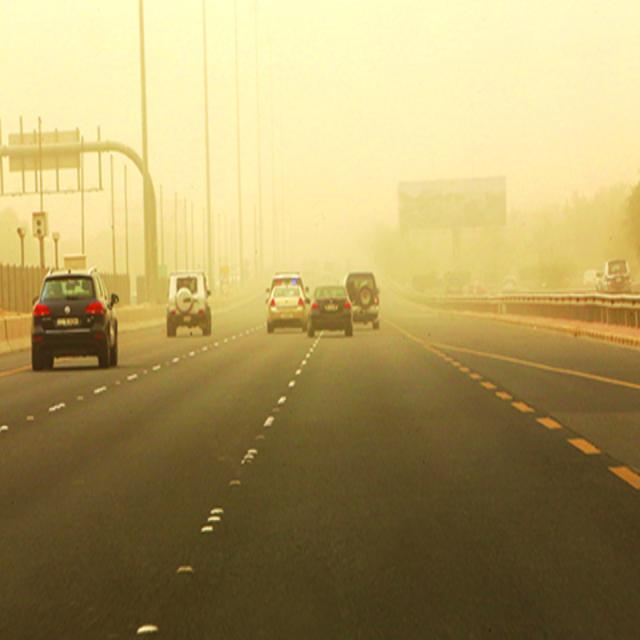car: (31, 271, 119, 372), (164, 271, 212, 337), (306, 283, 354, 337), (345, 271, 381, 330), (266, 282, 304, 333), (596, 256, 630, 294), (266, 272, 310, 293), (501, 271, 519, 292), (447, 276, 462, 296)
